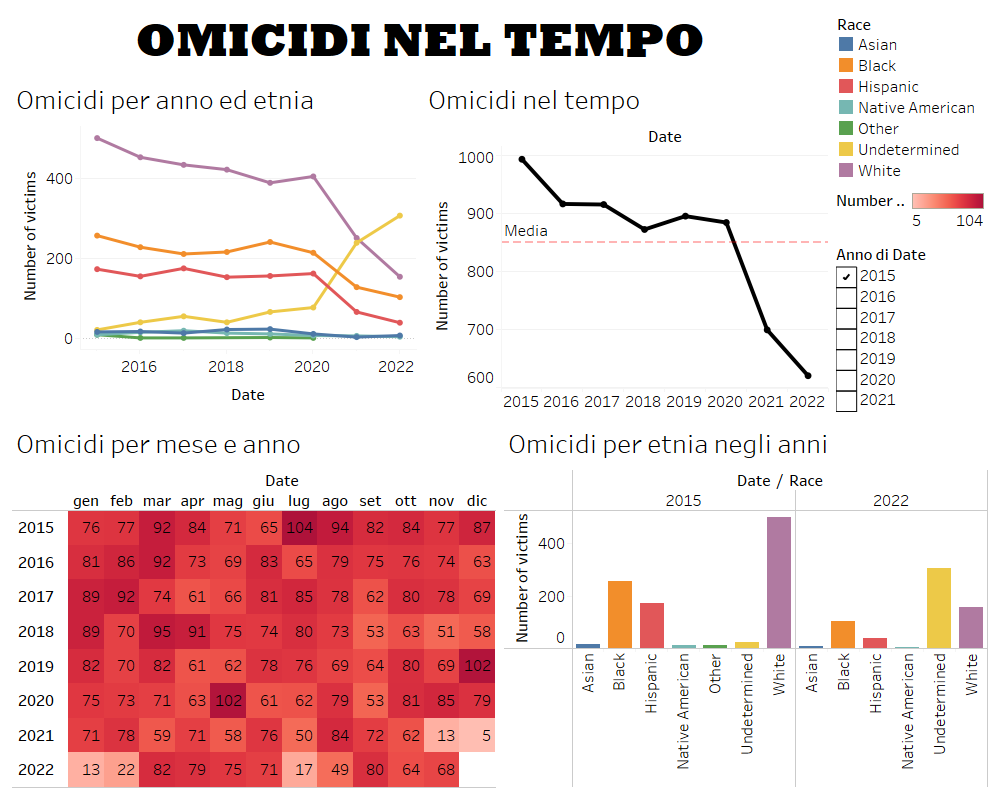

Layout of this report page (visuals, bound fields, positions):
{"tool":"tableau","page":{"name":"Dashboard 1","canvas":[1000,800],"ordinal":0},"visuals":[{"type":"title","box":[8,8,824,64]},{"type":"legend","title":"Foglio 2","param":"[federated.1p3l17z1kl7a3q19aif3b07l2cyk].[none:race :nk]","box":[832,8,160,177]},{"type":"worksheet","title":"Foglio 2","mark":"Automatic","rows":["cleaned_dataset.csv_8241F1DBC24F4195940C49217215E1F5"],"cols":["date "],"box":[8,72,412,344]},{"type":"worksheet","title":"Foglio 1","mark":"Line","rows":["cleaned_dataset.csv_8241F1DBC24F4195940C49217215E1F5"],"cols":["date "],"box":[420,72,412,344]},{"type":"legend","title":"Foglio 4","param":"[federated.1p3l17z1kl7a3q19aif3b07l2cyk].[__tableau_internal_object_id__].[cnt:c","box":[832,185,160,54]},{"type":"filter","title":"Foglio 3","param":"[federated.1p3l17z1kl7a3q19aif3b07l2cyk].[yr:date :ok]","box":[832,239,160,177]},{"type":"worksheet","title":"Foglio 4","mark":"Square","rows":["date "],"cols":["date "],"box":[8,416,492,376]},{"type":"worksheet","title":"Foglio 3","mark":"Bar","rows":["cleaned_dataset.csv_8241F1DBC24F4195940C49217215E1F5"],"cols":["date ","race "],"box":[500,416,492,376]}]}

Visuals, with their boxes in screenshot pixels (x1, y1, x2, y2), scaled from the page's 1000x800 canvas onto the 1000x800 screenshot:
title: <box>8,8,832,72</box>
"Foglio 2" legend: <box>832,8,992,185</box>
"Foglio 2" worksheet: <box>8,72,420,416</box>
"Foglio 1" worksheet (Line marks): <box>420,72,832,416</box>
"Foglio 4" legend: <box>832,185,992,239</box>
"Foglio 3" filter: <box>832,239,992,416</box>
"Foglio 4" worksheet (Square marks): <box>8,416,500,792</box>
"Foglio 3" worksheet (Bar marks): <box>500,416,992,792</box>
